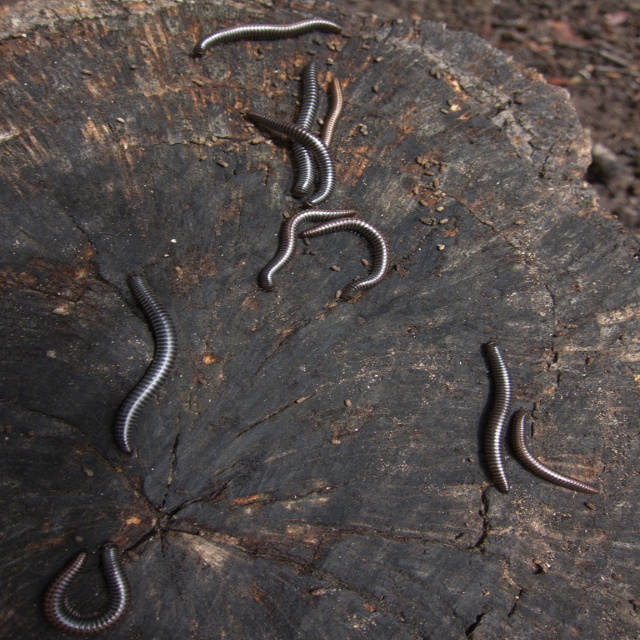Centipede: (115, 273, 178, 461), (245, 110, 338, 206), (43, 543, 129, 637), (260, 209, 356, 292), (509, 411, 603, 493), (299, 217, 388, 302), (196, 18, 343, 51), (485, 340, 514, 494), (293, 61, 322, 197), (320, 76, 345, 148)
